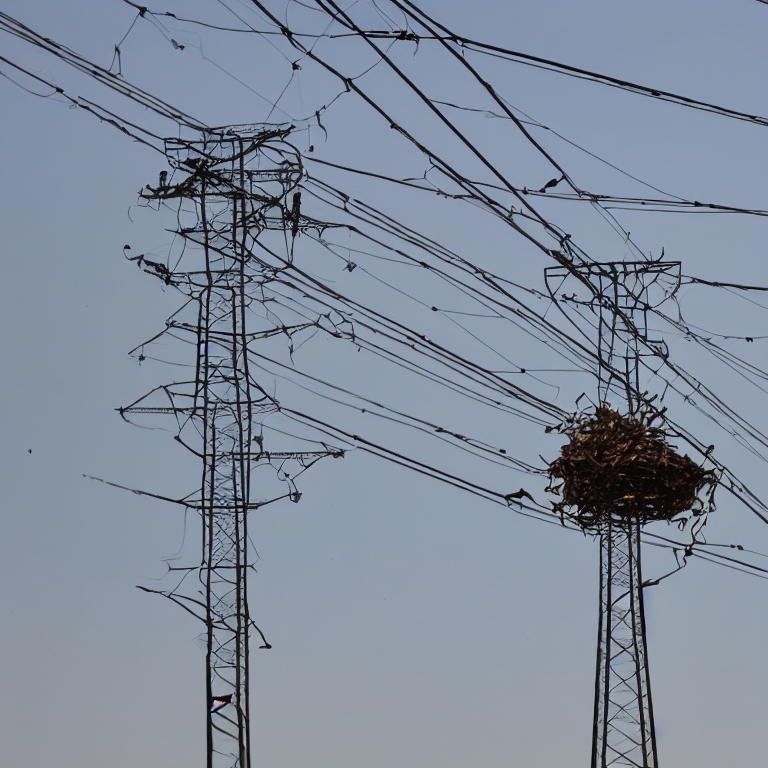nest: (553, 416, 706, 522)
